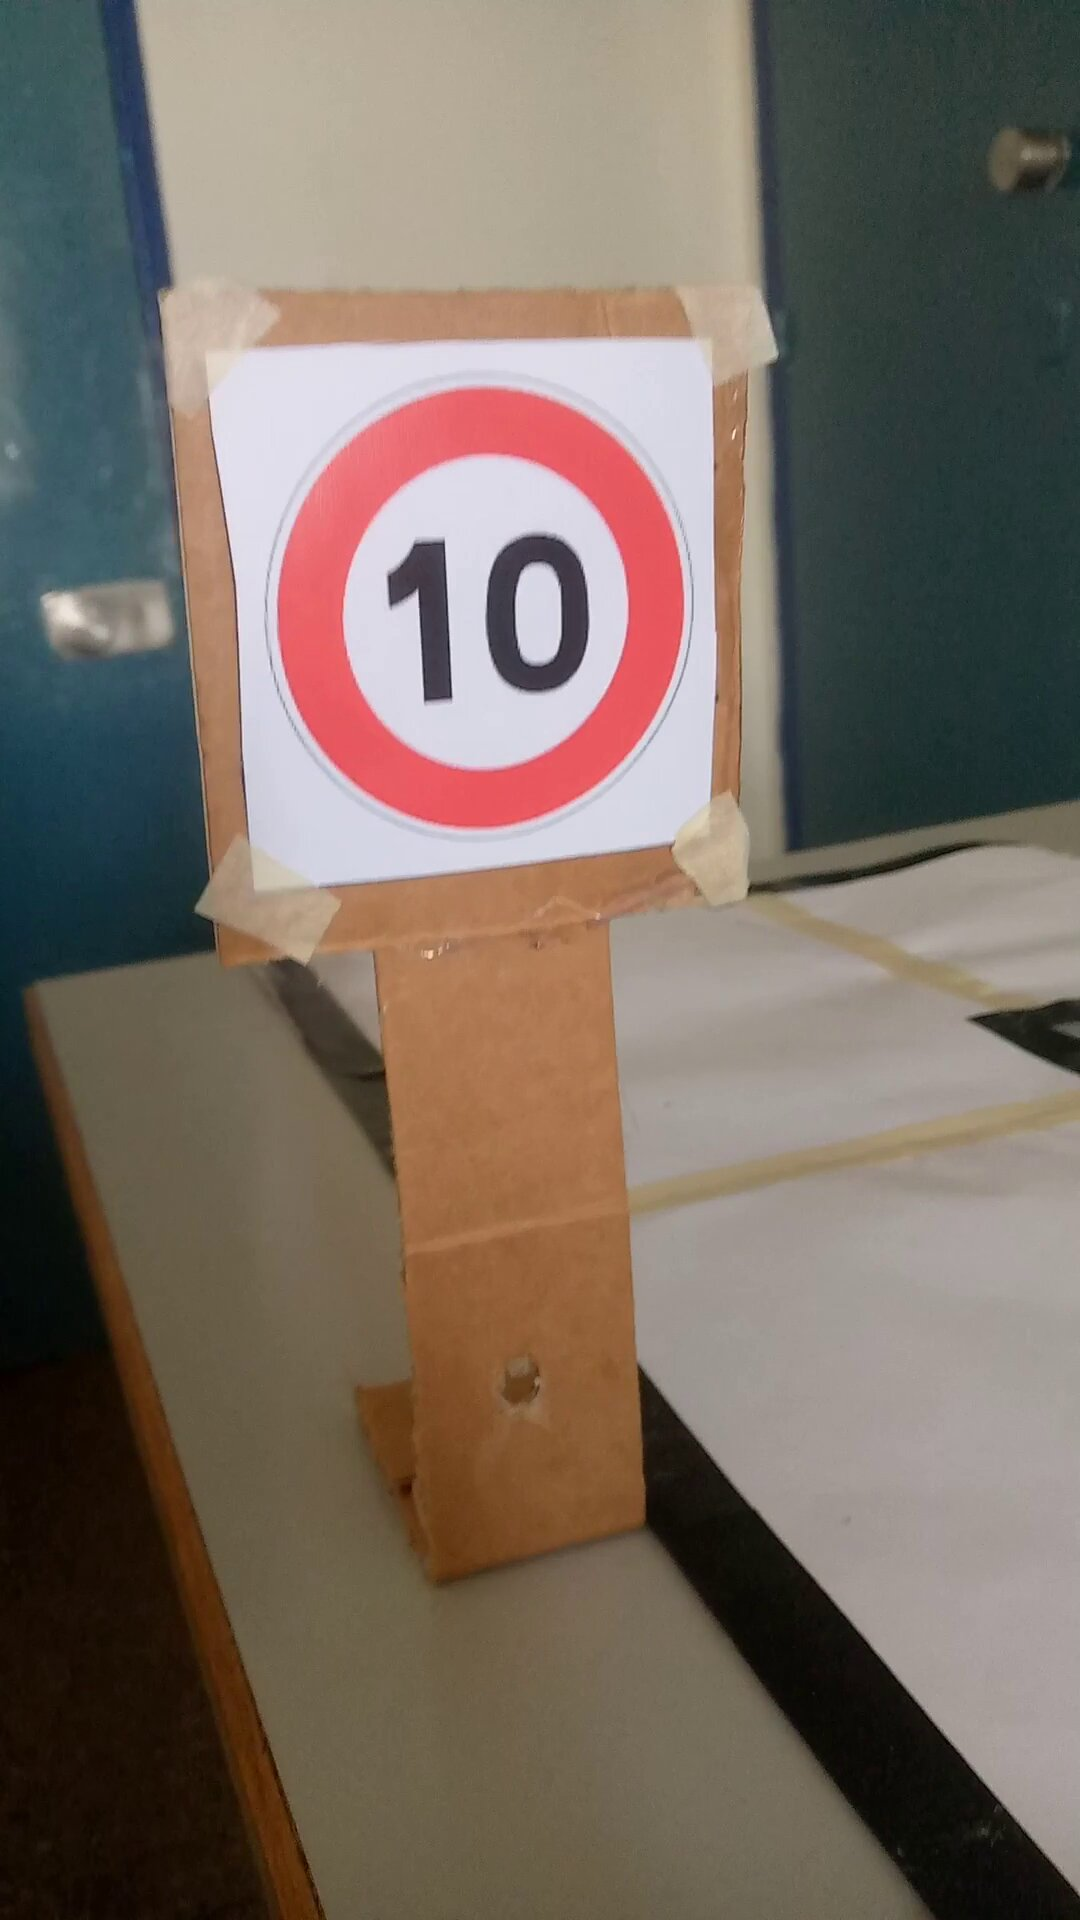panel011: (198, 343, 727, 880)
